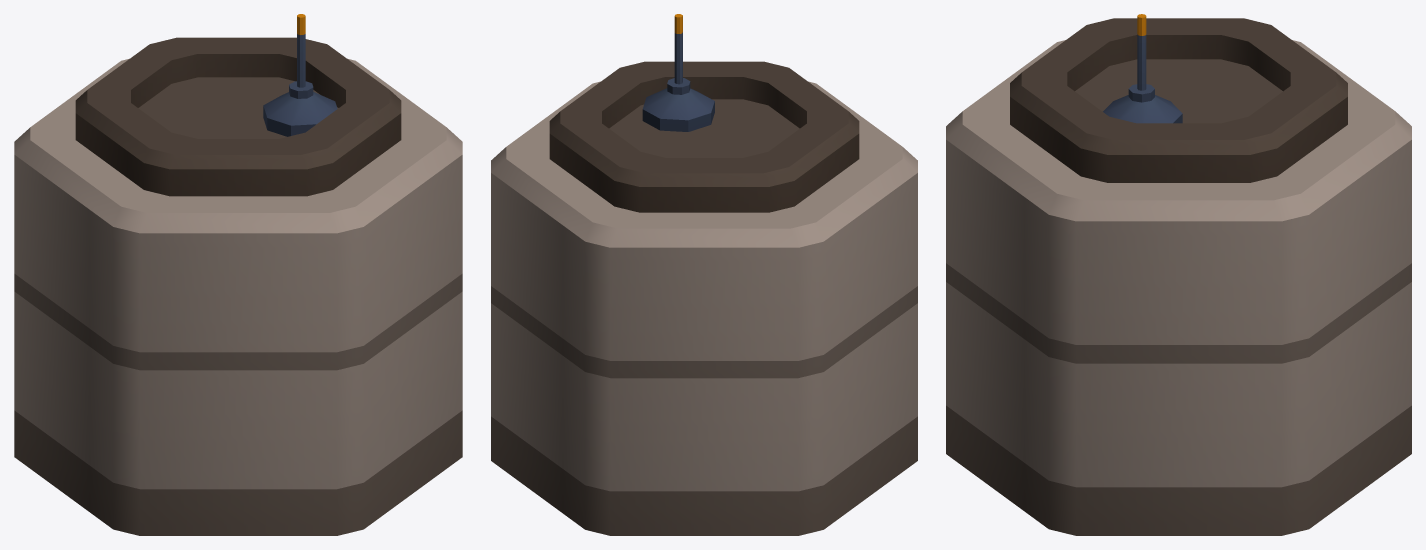
File: Tower 01.FBX
3 renders of one model, left to right at view 1: azimuth 30°, elevation 25°; view 2: azimuth 150°, elevation 25°; view 3: azimuth 270°, elevation 25°, orthographic. The views are drawn at different scales.
Visible parts, largest first — view 1: Tower 01; view 2: Tower 01; view 3: Tower 01.
Boxes of the visible parts, x1,y1,x2,y2 form: Tower 01: [14, 14, 462, 535]; Tower 01: [491, 14, 917, 535]; Tower 01: [946, 14, 1411, 535].
Size of the model in its own units: 559 by 669 by 621.
Materials: 1 (1 with a texture image).
